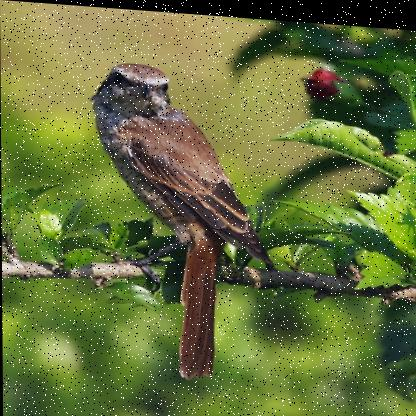Burung: (89, 55, 271, 380)
